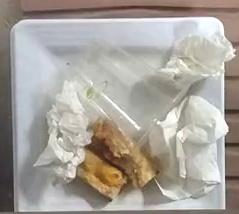pizza_crust: (76, 119, 154, 198)
